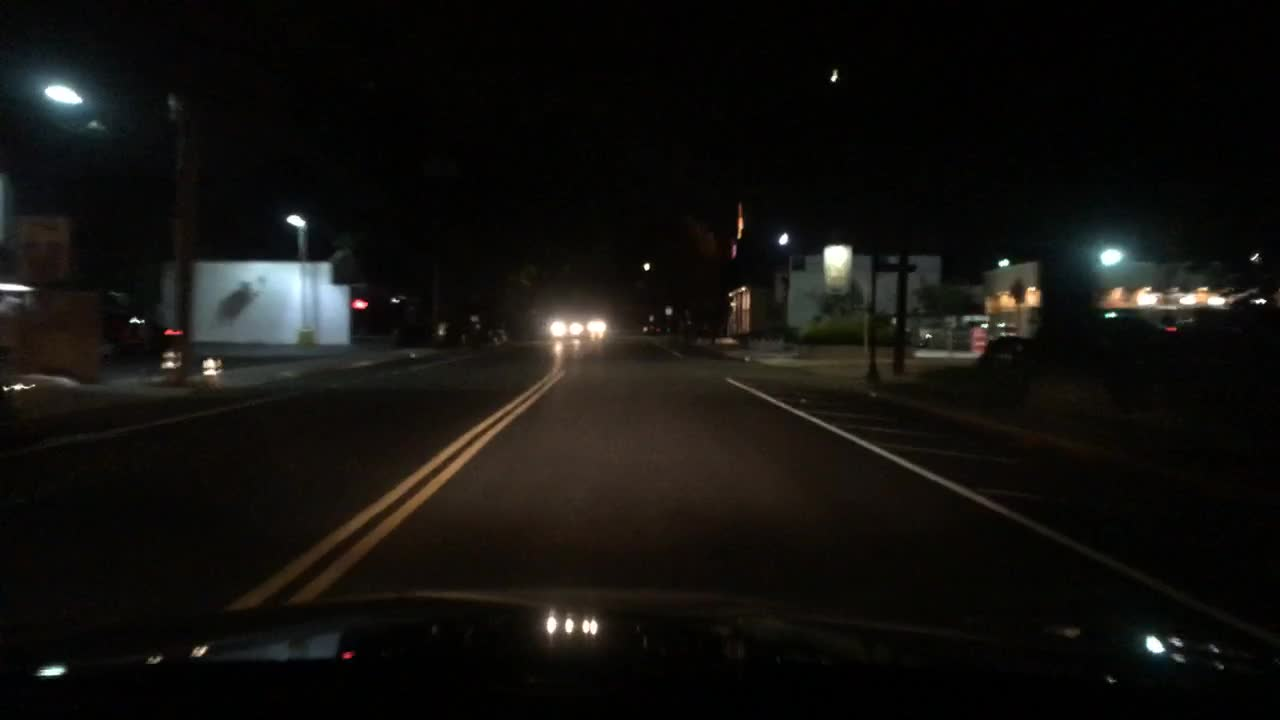car: (1095, 311, 1179, 356), (978, 336, 1035, 374), (547, 313, 585, 338), (641, 320, 672, 336), (586, 319, 610, 339)
